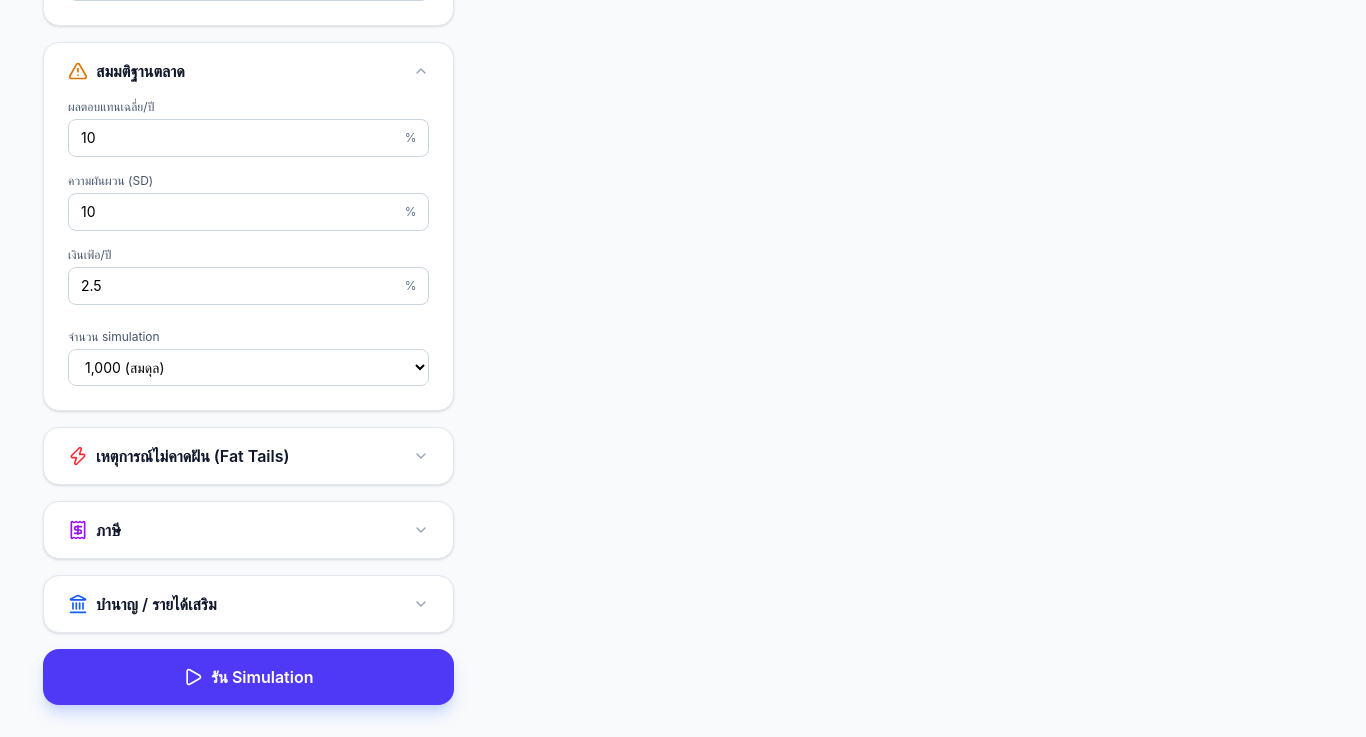
it: MonteCarloSimulator component › shows distribution histogram after running simulation
(page scrolled)
Click the button "รัน Simulation" at (248, 677), box [43,649,454,705]
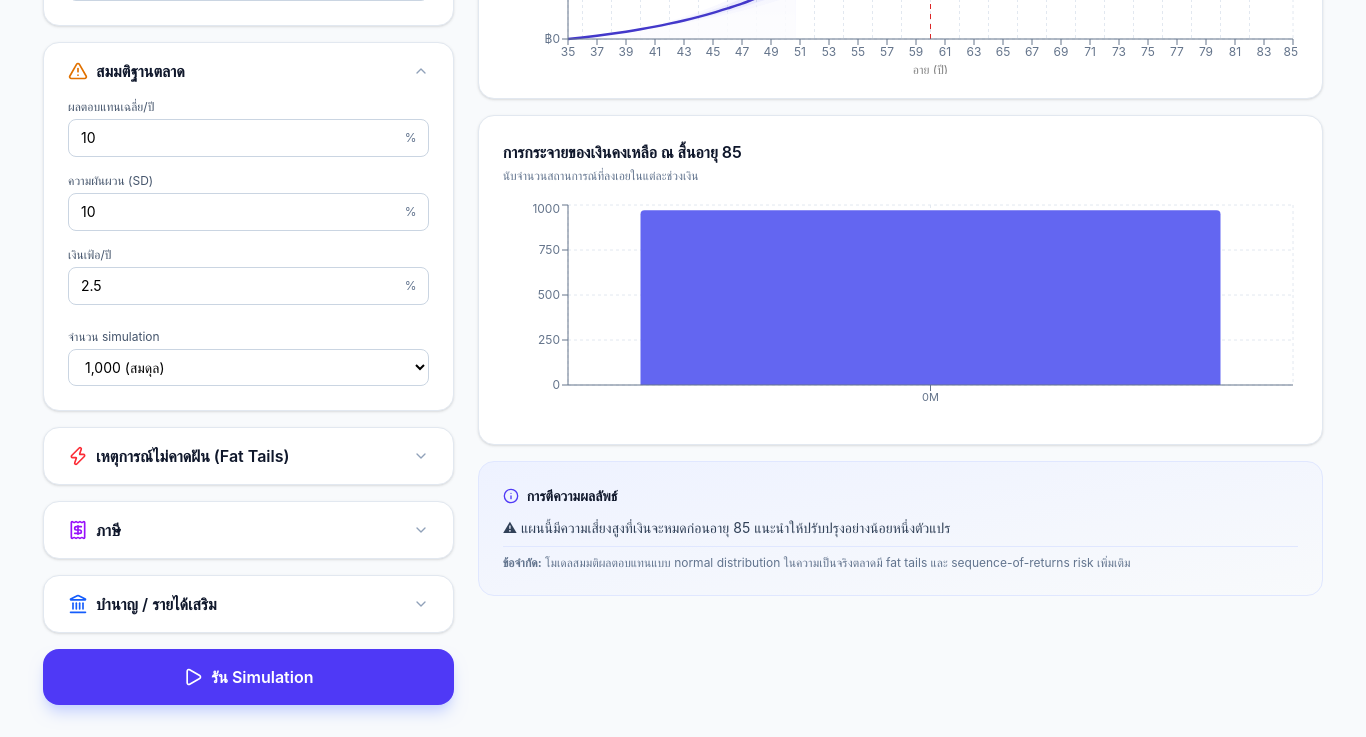
Now the heading "การกระจายของเงินคงเหลือ ณ สิ้นอายุ 85" is shown, box [503,142,742,162]
